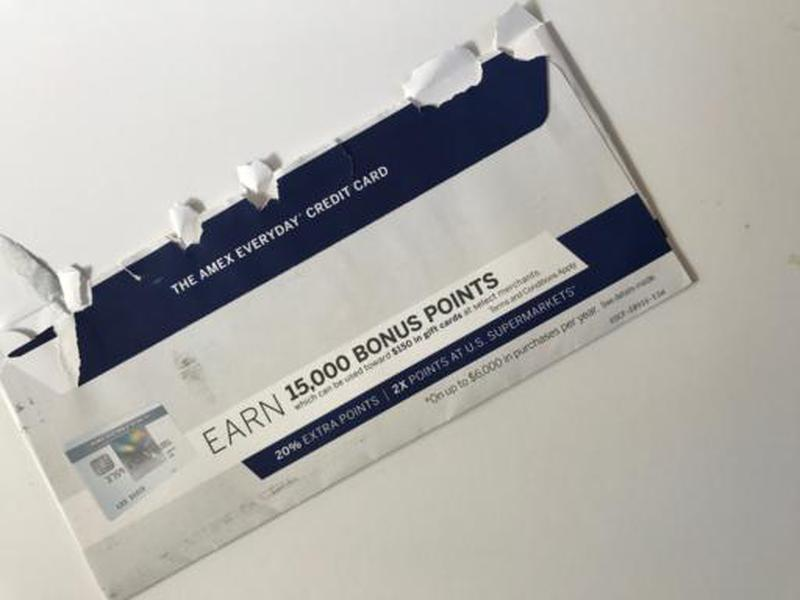paper: (2, 1, 703, 600)
